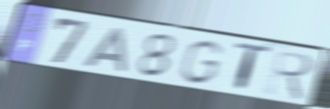7: (52, 16, 93, 66)
8: (135, 32, 178, 80)
A: (80, 26, 128, 75)
G: (176, 39, 226, 86)
R: (263, 48, 316, 104)
T: (233, 41, 274, 96)
